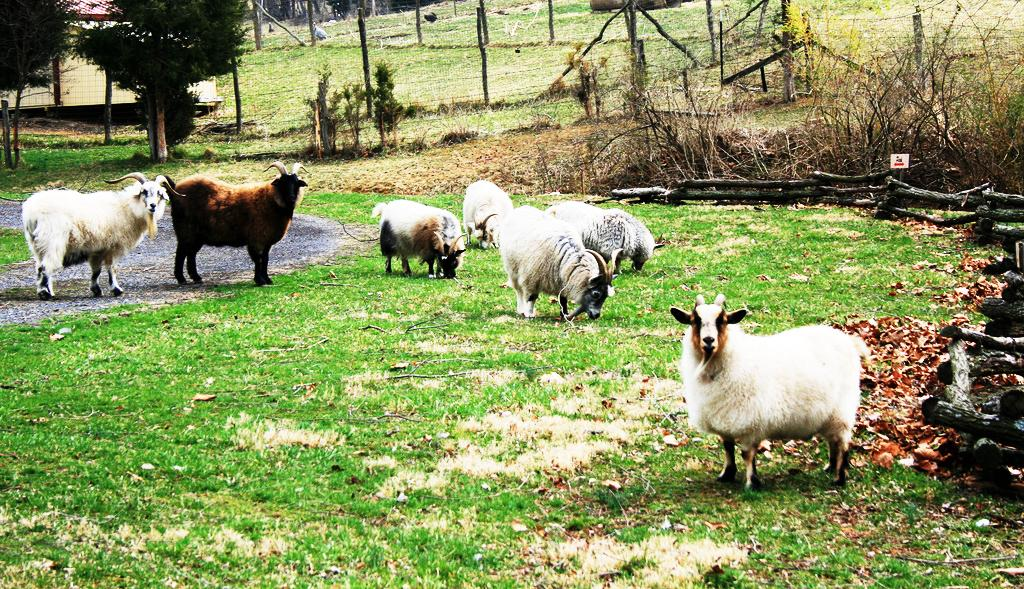Sheep: (670, 293, 863, 487), (24, 171, 188, 301), (173, 160, 305, 284), (500, 205, 620, 318), (550, 202, 662, 267), (374, 198, 462, 277), (462, 180, 512, 247)
